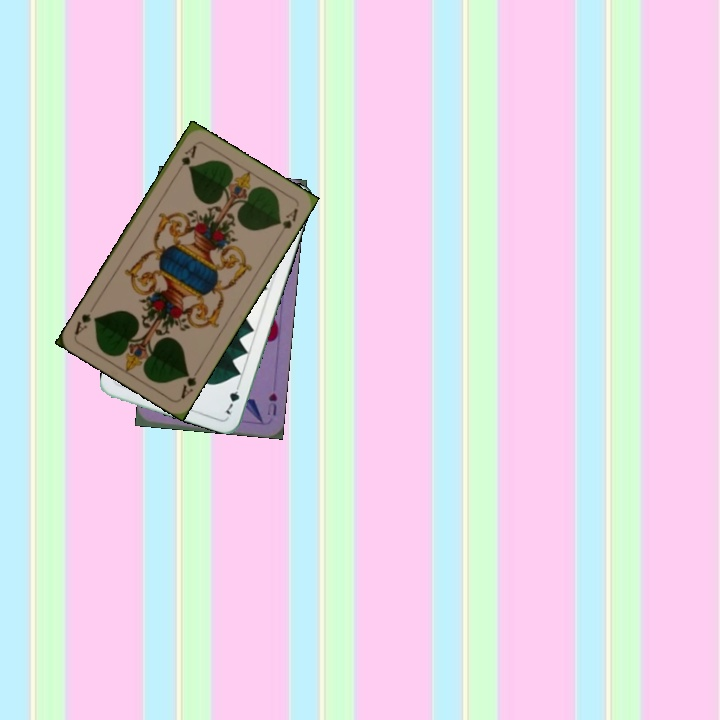G7: (221, 378, 243, 417)
GA: (176, 364, 202, 402), (177, 141, 199, 168)
HU: (263, 389, 280, 418)
